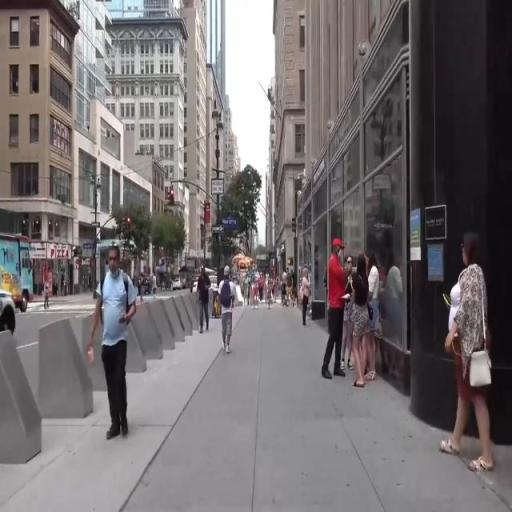person: (433, 222, 496, 479), (91, 241, 137, 472), (326, 242, 349, 389), (365, 252, 384, 399), (352, 259, 370, 397), (190, 263, 213, 340), (220, 267, 239, 354), (301, 268, 313, 327), (252, 266, 263, 313), (288, 266, 296, 313), (149, 273, 161, 299), (44, 279, 52, 313), (267, 278, 275, 311), (140, 272, 148, 304)
